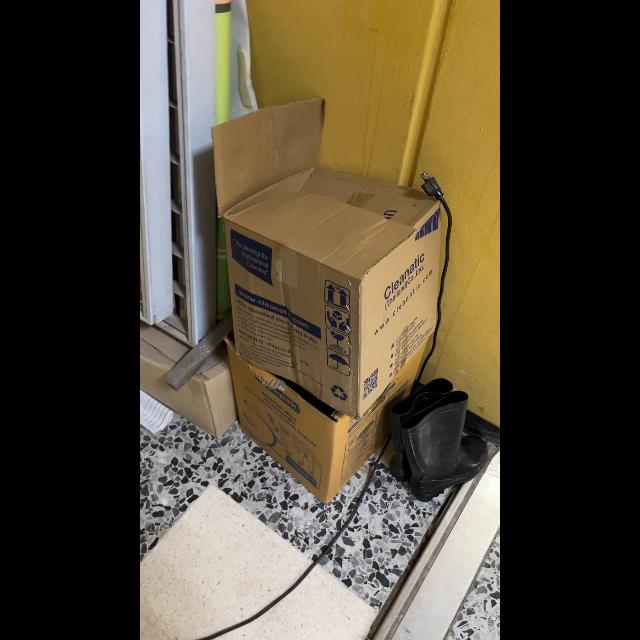cardboard_box: (215, 98, 451, 416), (222, 321, 433, 504)
